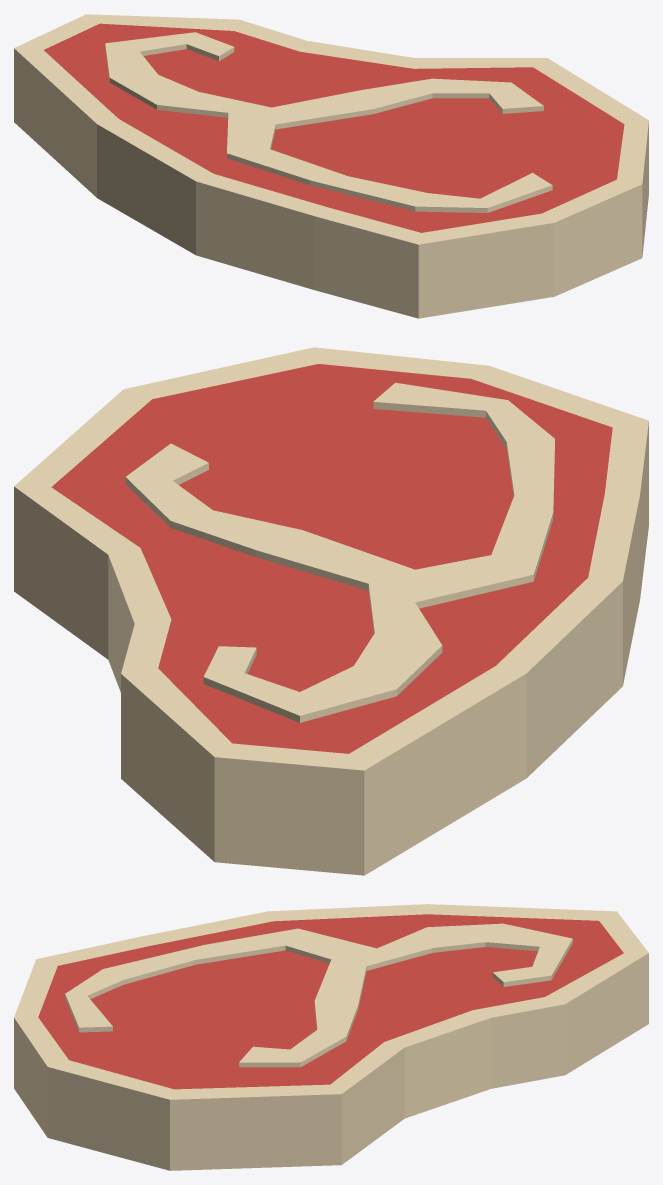
Rendered from steak02.fbx.
The picture shows the model from 3 angles, top to bottom: view 1: azimuth 30°, elevation 25°; view 2: azimuth 150°, elevation 25°; view 3: azimuth 270°, elevation 25°; orthographic projection. The views are drawn at different scales.
Visible parts, largest first — view 1: steak02; view 2: steak02; view 3: steak02.
Boxes of the visible parts, x1,y1,x2,y2 form: steak02: [14, 14, 648, 318]; steak02: [14, 347, 648, 875]; steak02: [14, 904, 648, 1170].
Bounding box in the file's own units: 349 × 63 × 478.
Materials: 1 (1 with a texture image).
